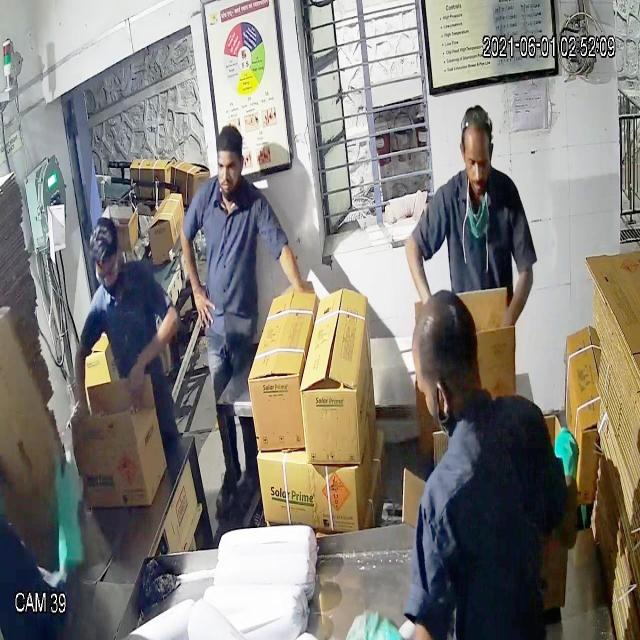glasses: (90, 255, 124, 287)
no-glass: (454, 146, 504, 178), (211, 149, 249, 186)
